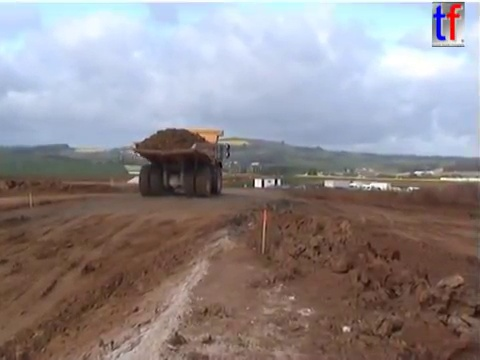truck: (130, 126, 231, 198)
